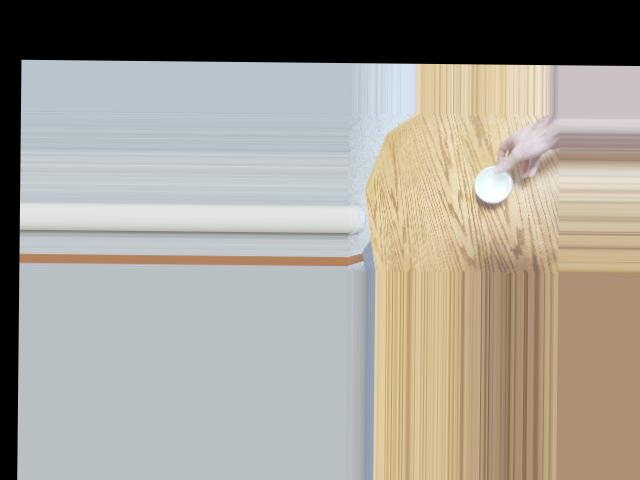cotage: (471, 165, 511, 203)
